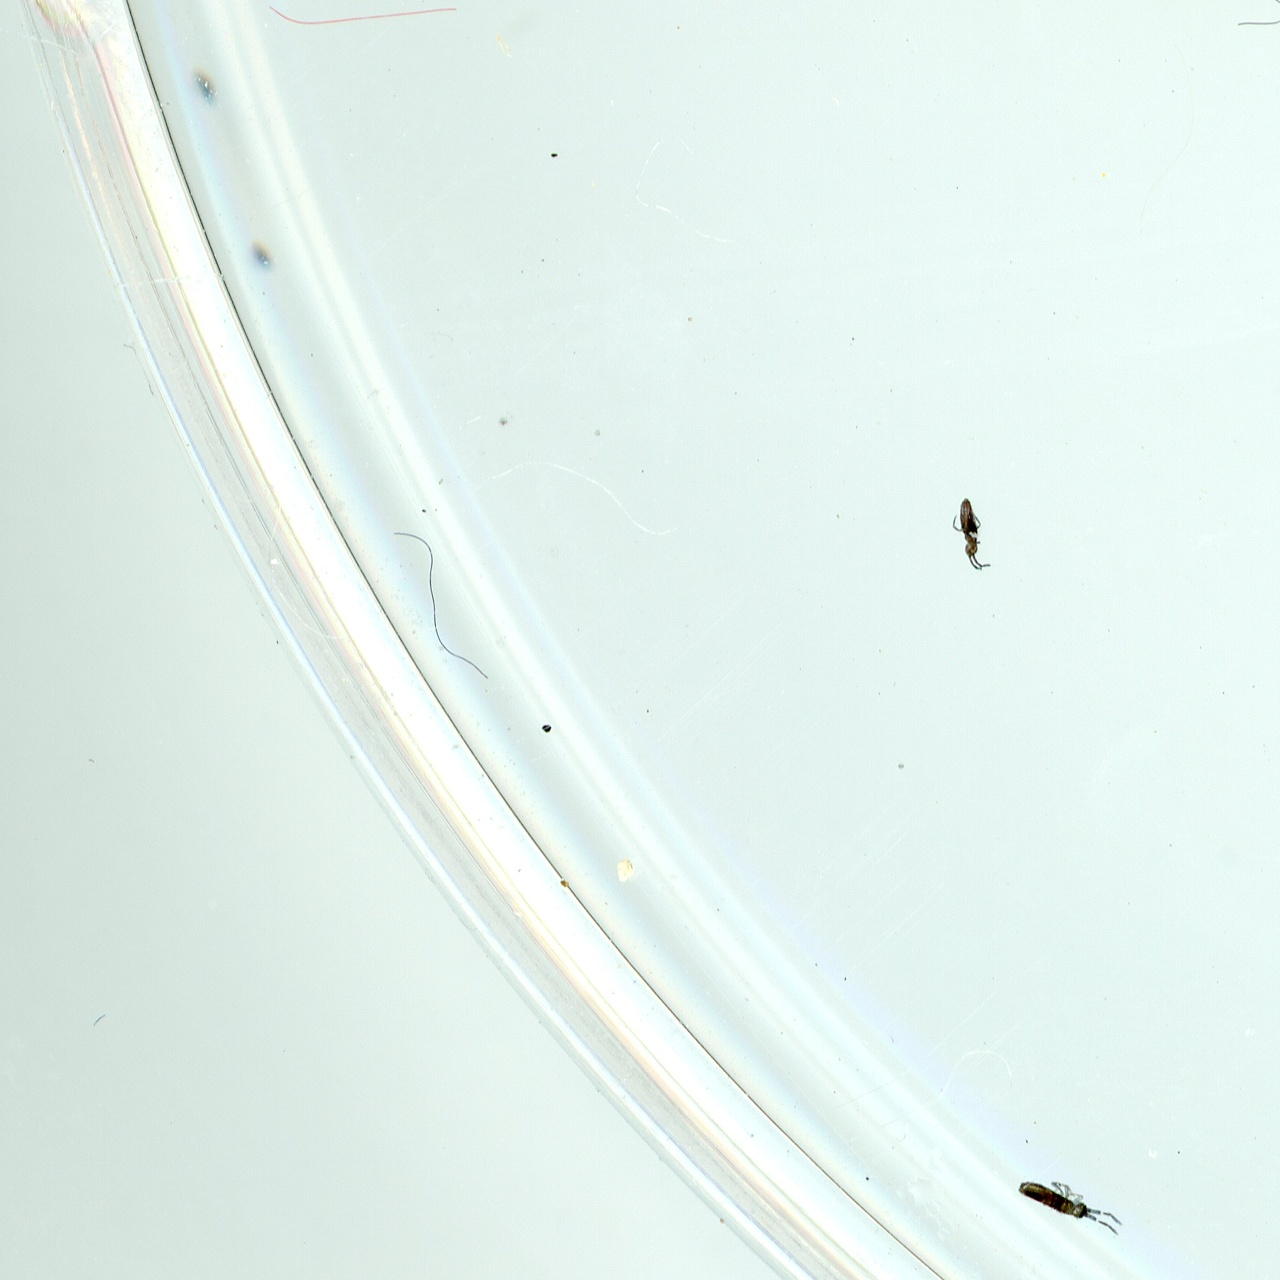arthropod: (1001, 1156, 1136, 1250), (948, 490, 993, 576)
